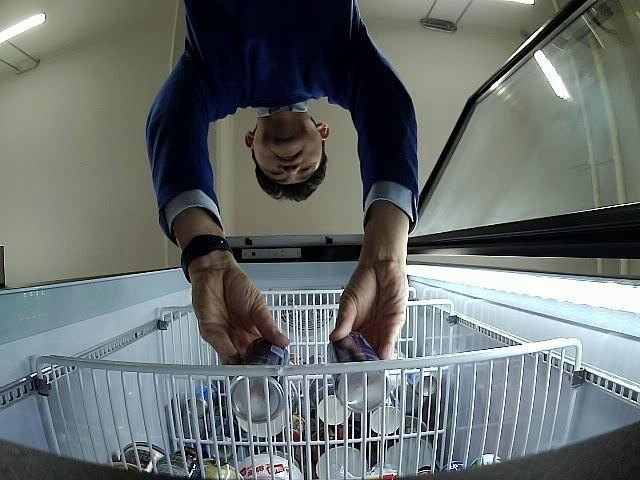16_hot6: (326, 332, 391, 413), (230, 338, 290, 424)
